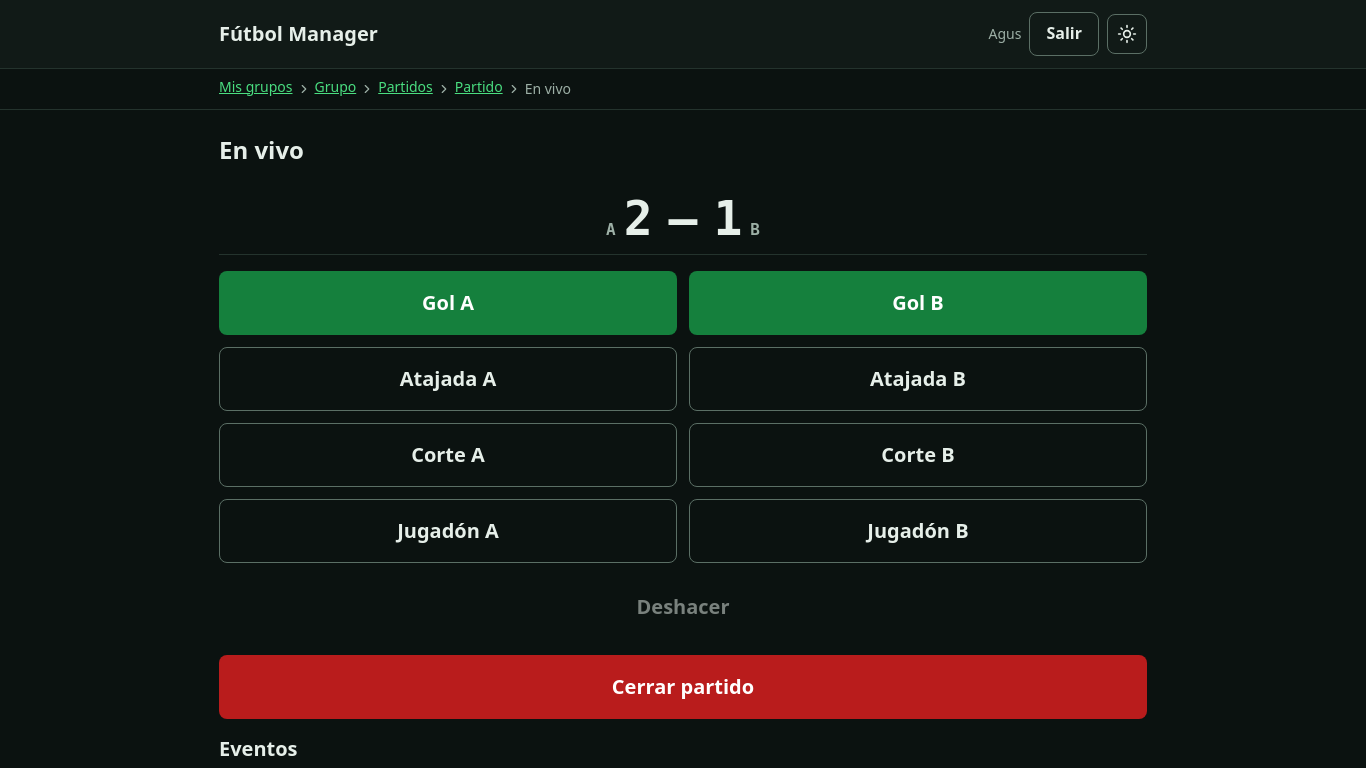
Test case: CloseControls › cierra con el MVP elegido y lo manda como mvpPlayerId
The width and height of the screenshot is (1366, 768).
Click the button "Cerrar partido".
click(683, 687)  # box [219,655,1147,719]
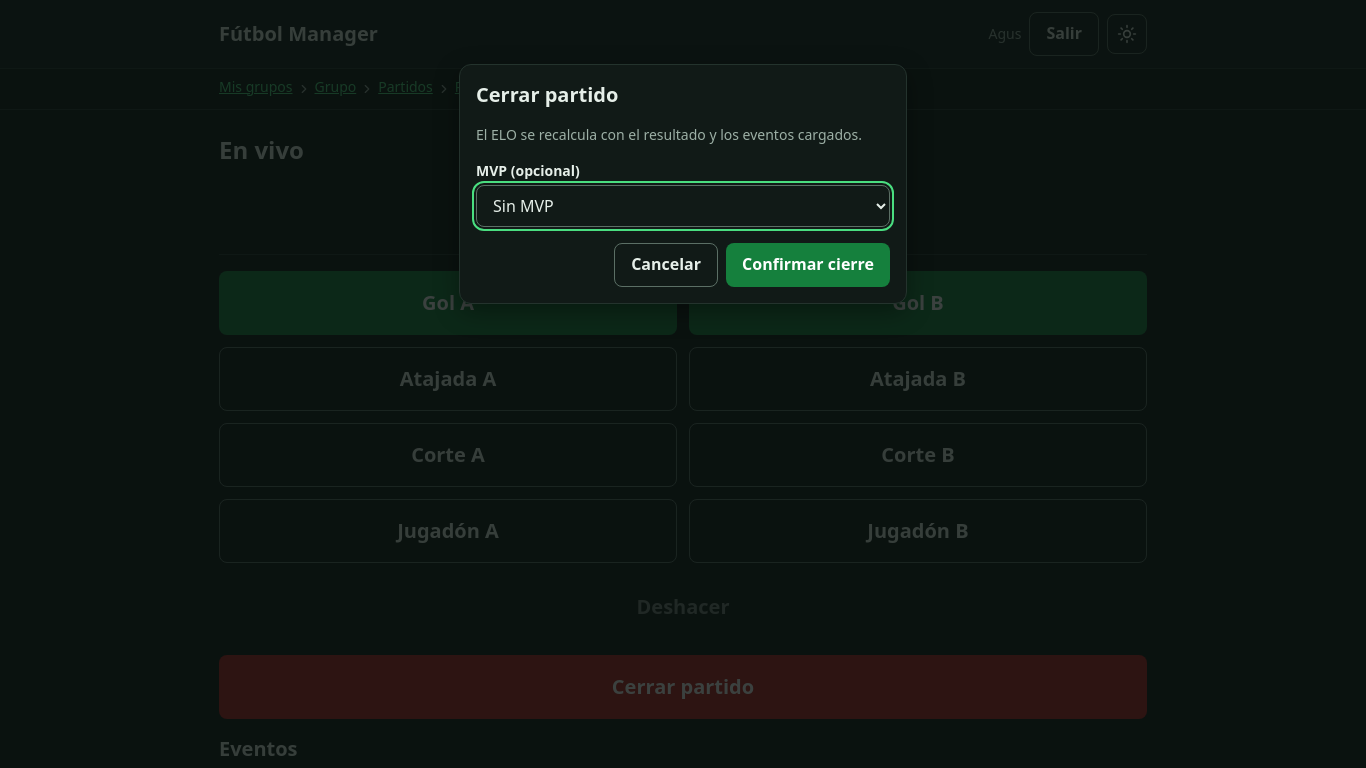
Select "Lu" in the dropdown labelled "MVP (opcional)" at (683,206), box [476,185,890,227]
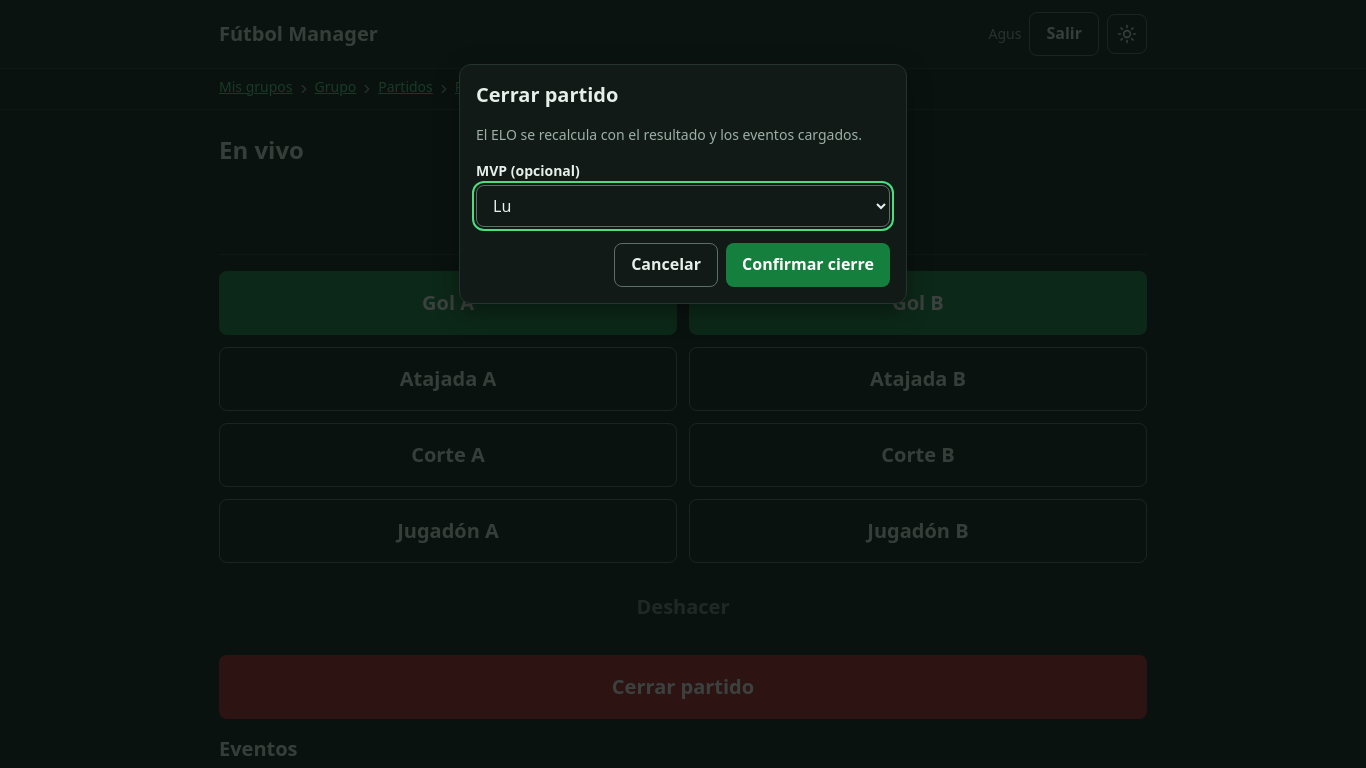
Click the button "Confirmar cierre".
click(808, 265)  # box [726,243,890,287]
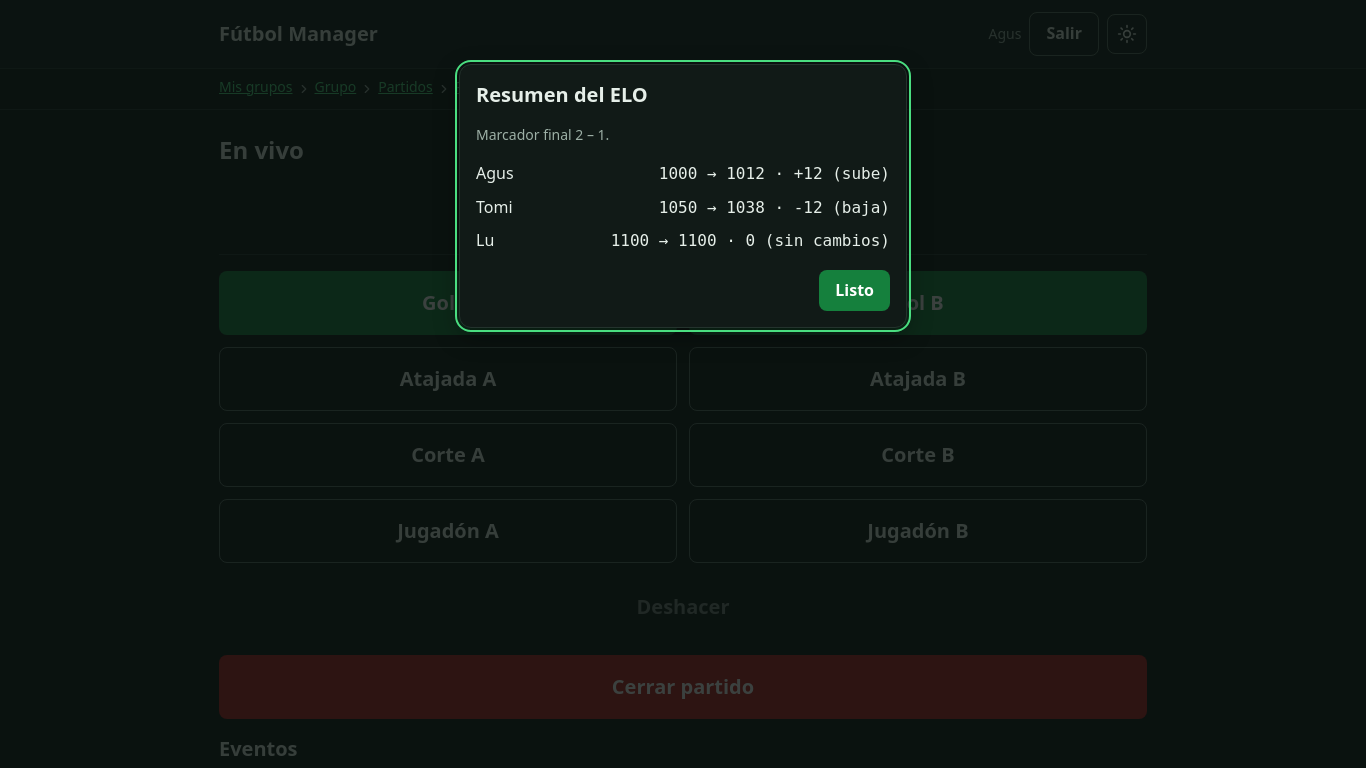
Expected: the list named "Cambios de ELO" is shown, [476,161,890,254]
